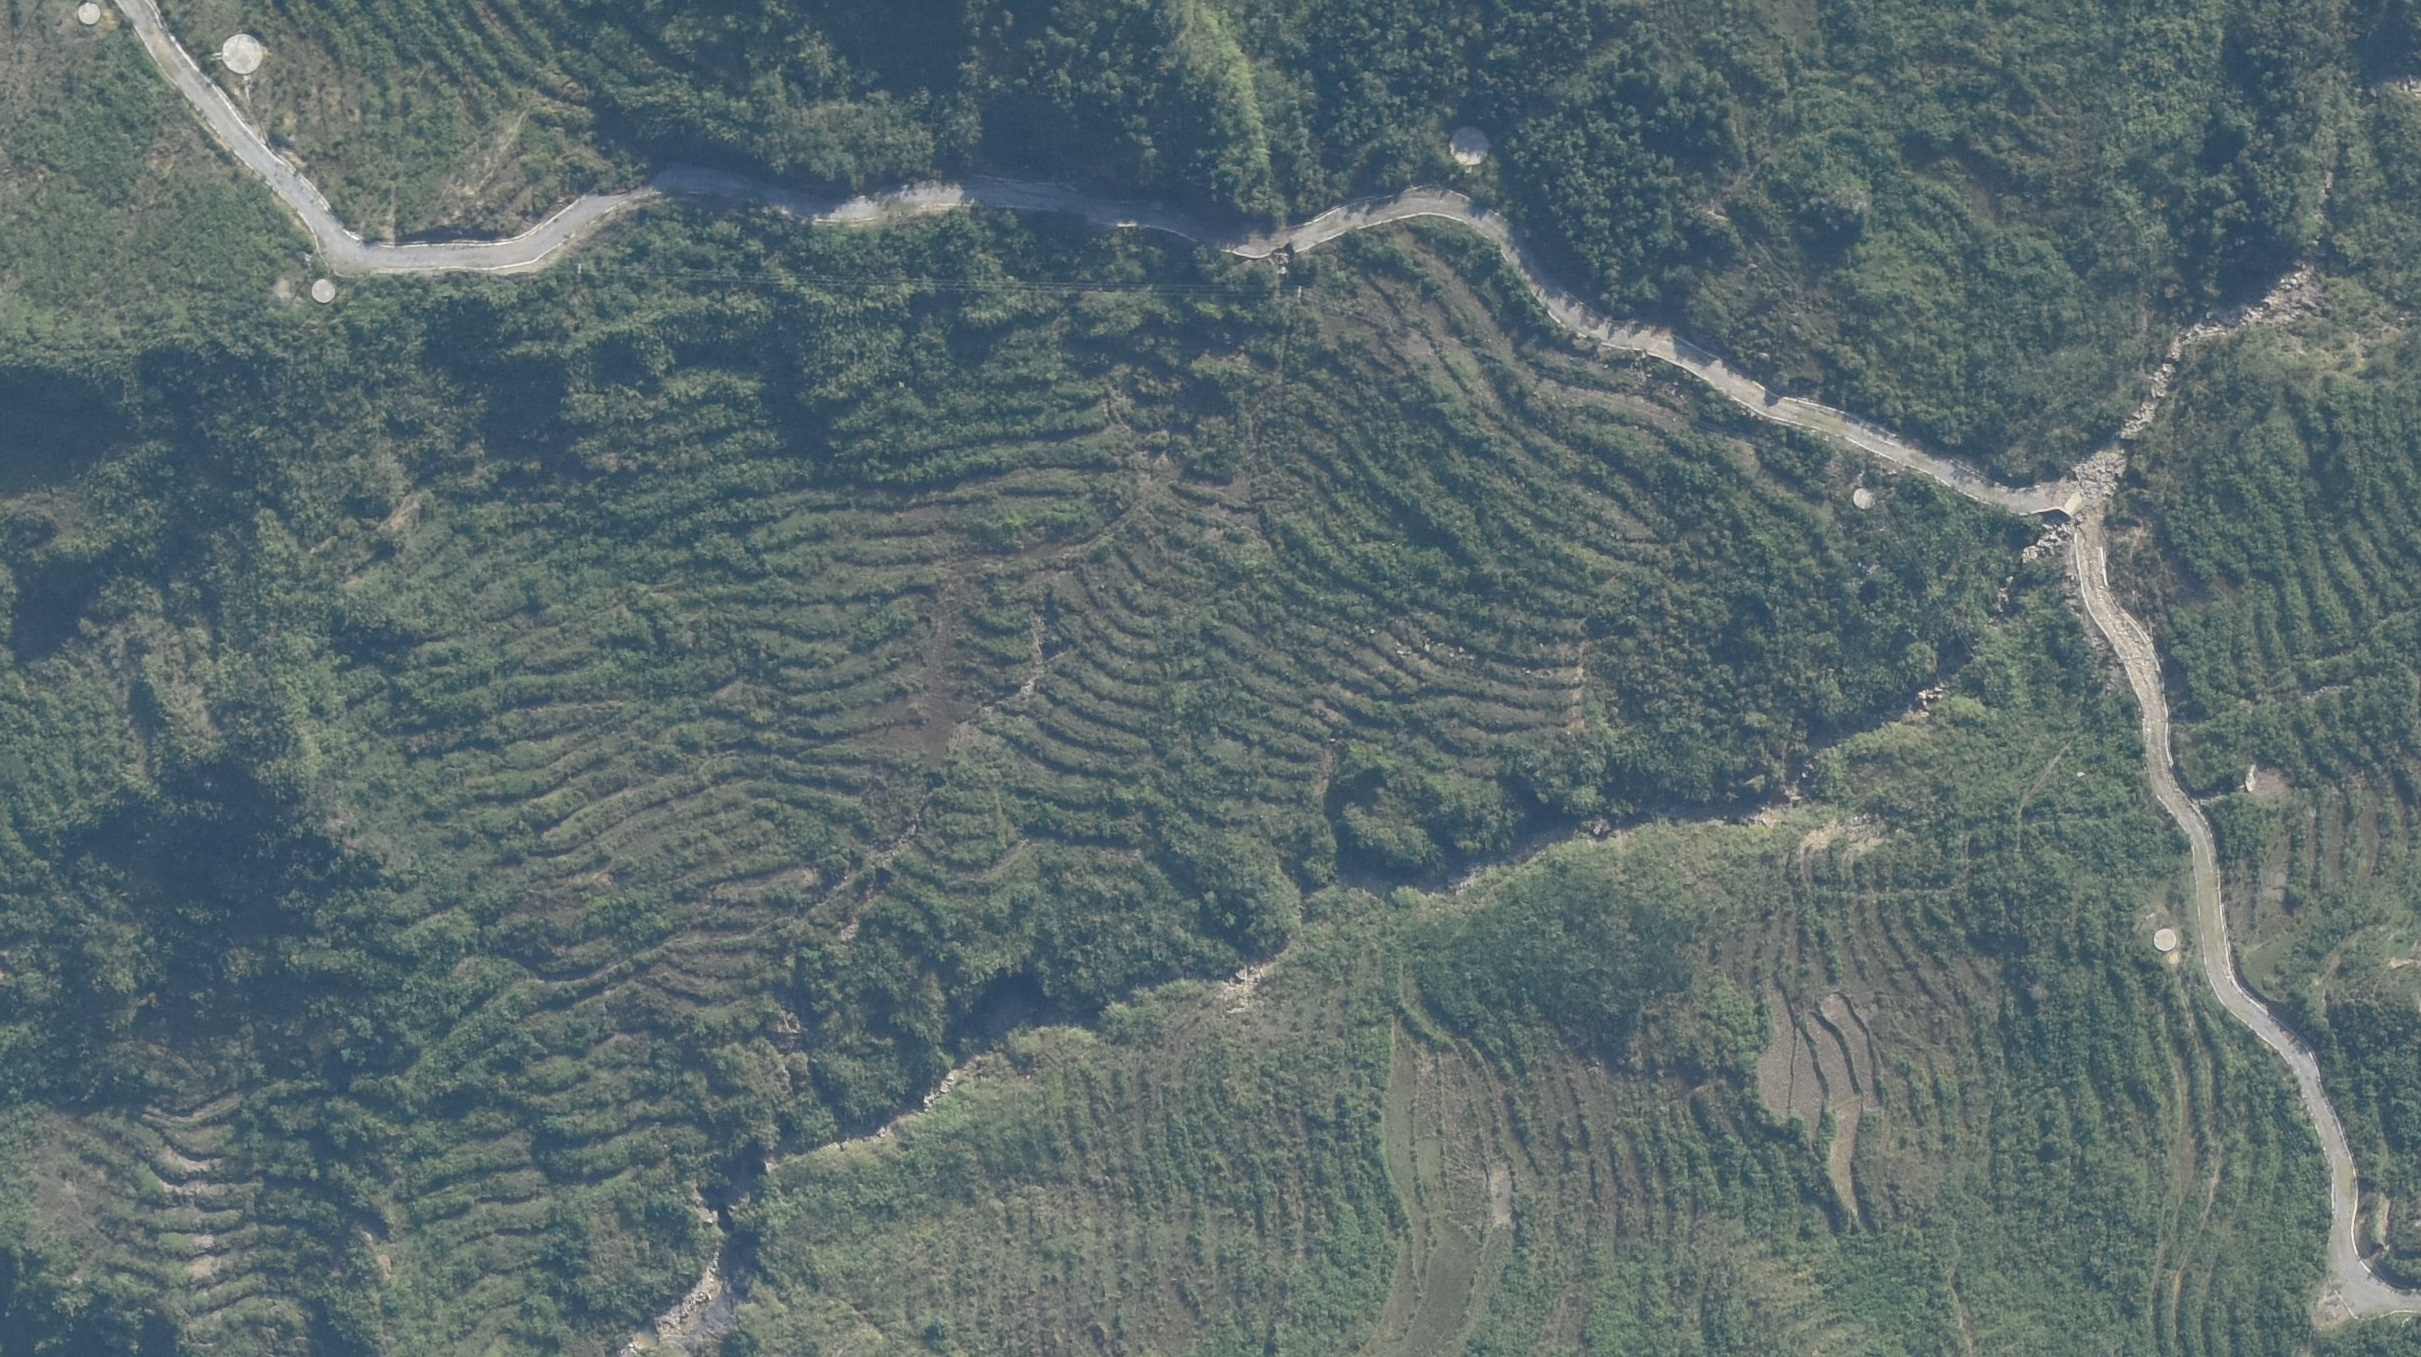cable-tower: (572, 261, 585, 278), (1297, 283, 1305, 299)
well: (1448, 120, 1493, 168), (223, 32, 264, 75), (75, 2, 101, 27), (1854, 486, 1877, 512), (313, 278, 336, 303), (2153, 928, 2173, 953)
